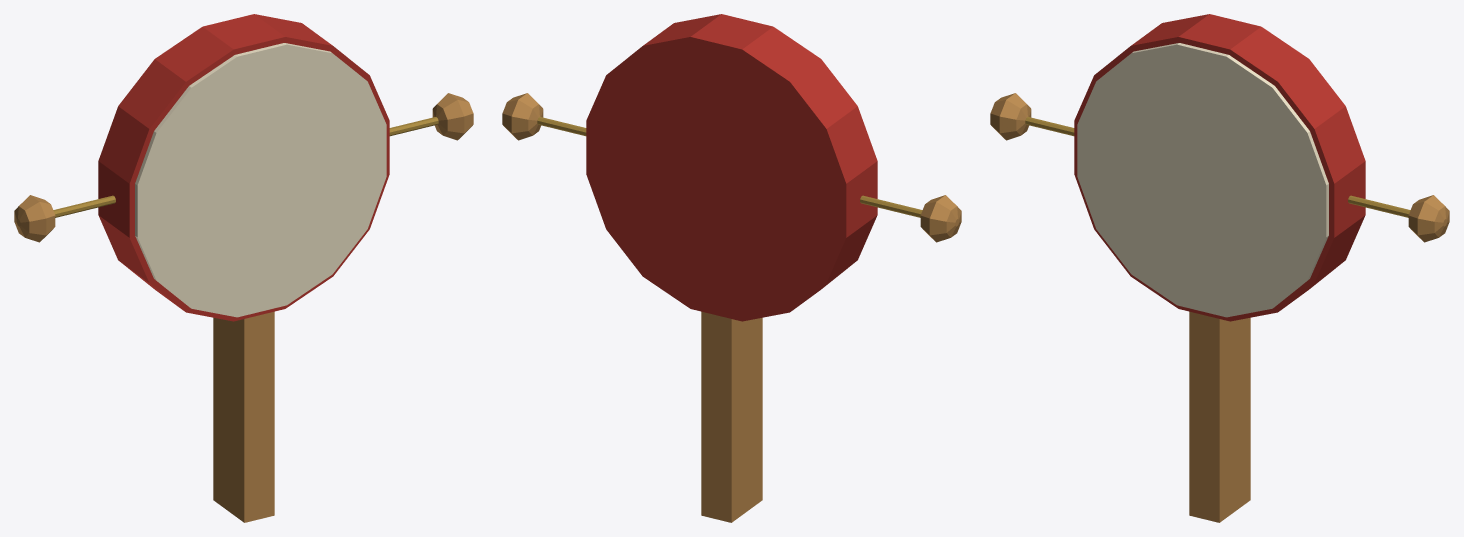
The picture shows the model from 3 angles, left to right: view 1: azimuth 30°, elevation 25°; view 2: azimuth 150°, elevation 25°; view 3: azimuth 330°, elevation 25°; orthographic projection.
Visible parts, largest first — view 1: CompleteThickFrontDrumHead, ContinuousBlindDrumCaseAndIntegralGrip, LeftContinuousTetherAndPellet, RightContinuousTetherAndPellet; view 2: ContinuousBlindDrumCaseAndIntegralGrip, LeftContinuousTetherAndPellet, RightContinuousTetherAndPellet; view 3: CompleteThickFrontDrumHead, ContinuousBlindDrumCaseAndIntegralGrip, RightContinuousTetherAndPellet, LeftContinuousTetherAndPellet.
Boxes of the visible parts, left/top/right/bottom form: CompleteThickFrontDrumHead: left=135, top=43, right=386, bottom=317; ContinuousBlindDrumCaseAndIntegralGrip: left=98, top=14, right=389, bottom=522; LeftContinuousTetherAndPellet: left=14, top=195, right=115, bottom=242; RightContinuousTetherAndPellet: left=389, top=93, right=473, bottom=140; ContinuousBlindDrumCaseAndIntegralGrip: left=586, top=14, right=877, bottom=522; LeftContinuousTetherAndPellet: left=860, top=195, right=961, bottom=242; RightContinuousTetherAndPellet: left=502, top=93, right=586, bottom=140; CompleteThickFrontDrumHead: left=1077, top=43, right=1328, bottom=317; ContinuousBlindDrumCaseAndIntegralGrip: left=1074, top=14, right=1365, bottom=522; RightContinuousTetherAndPellet: left=1348, top=195, right=1449, bottom=242; LeftContinuousTetherAndPellet: left=990, top=93, right=1074, bottom=140.
Size of the model in its own units: 0.416 by 0.42 by 0.054.
